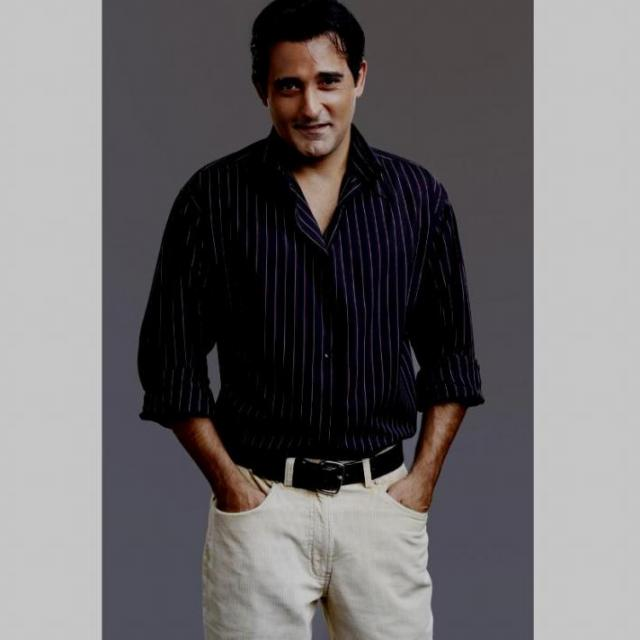live: (261, 21, 366, 158)
